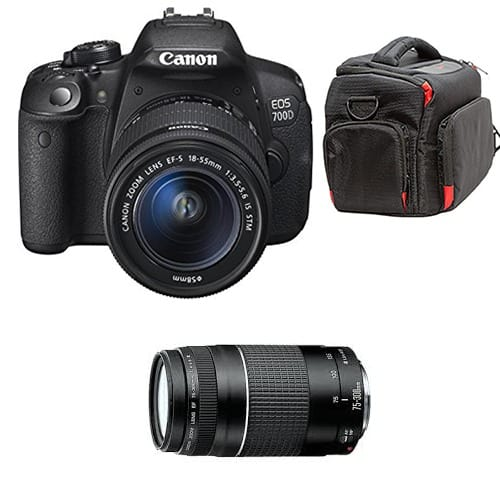kamera: (6, 3, 315, 306)
